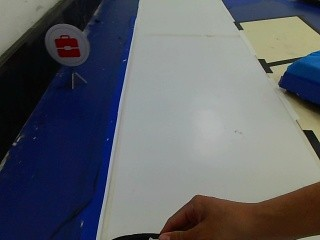company: (42, 21, 88, 70)
